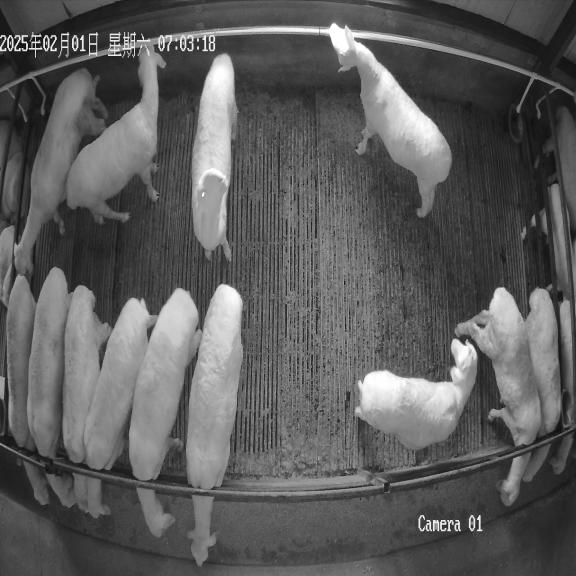eating: (455, 287, 541, 506), (129, 288, 202, 537), (186, 284, 243, 566), (84, 298, 157, 518), (27, 267, 77, 508), (62, 286, 112, 512), (7, 275, 49, 505), (522, 288, 562, 482)
stand: (329, 23, 452, 217), (15, 68, 108, 271), (66, 46, 165, 224), (355, 339, 477, 450), (191, 54, 238, 260)
